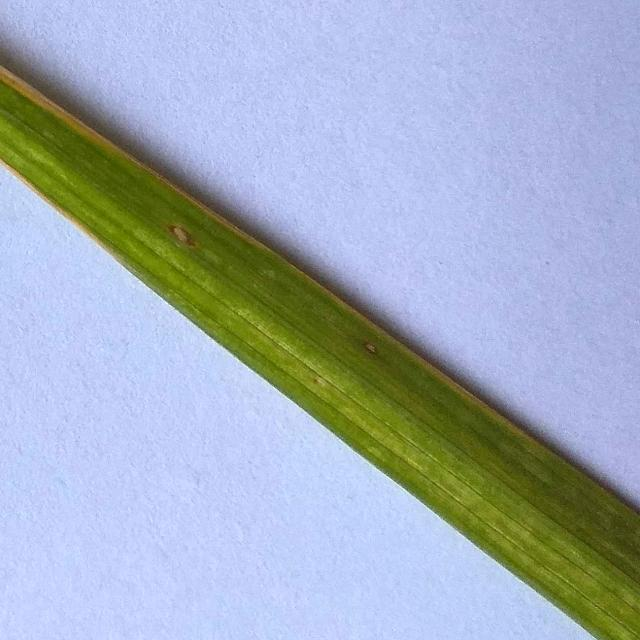Blast: (163, 217, 194, 252), (361, 340, 382, 360)
